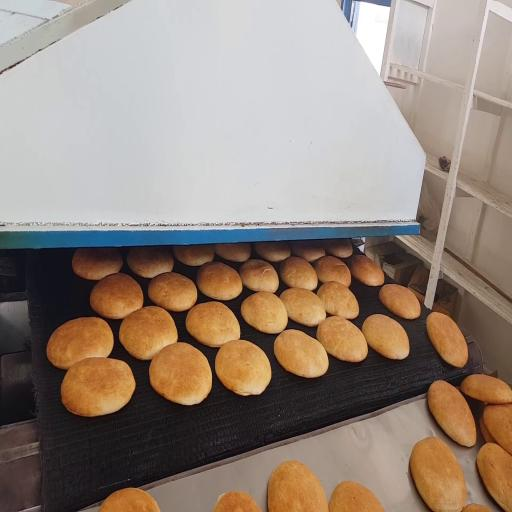bread: (61, 358, 135, 416), (410, 437, 466, 511), (150, 343, 212, 405), (47, 318, 113, 369), (428, 381, 476, 447), (119, 306, 177, 360), (215, 340, 271, 395), (268, 461, 328, 511), (274, 330, 328, 377), (186, 302, 240, 347), (90, 274, 143, 319), (477, 443, 511, 511), (427, 312, 468, 367), (317, 317, 367, 362), (362, 314, 409, 359), (241, 292, 287, 333), (148, 273, 197, 311), (280, 288, 326, 326), (197, 262, 242, 300), (329, 481, 384, 511), (72, 248, 122, 280), (317, 282, 359, 319), (461, 375, 511, 404), (379, 284, 420, 319), (127, 247, 173, 278), (483, 404, 511, 454), (99, 488, 159, 511), (280, 256, 317, 290), (239, 260, 278, 292), (314, 256, 351, 286), (350, 255, 384, 286), (214, 492, 261, 511), (173, 245, 214, 266), (254, 241, 291, 263), (291, 241, 325, 262), (215, 243, 251, 262), (324, 239, 353, 258), (479, 416, 495, 442), (463, 504, 491, 511)
